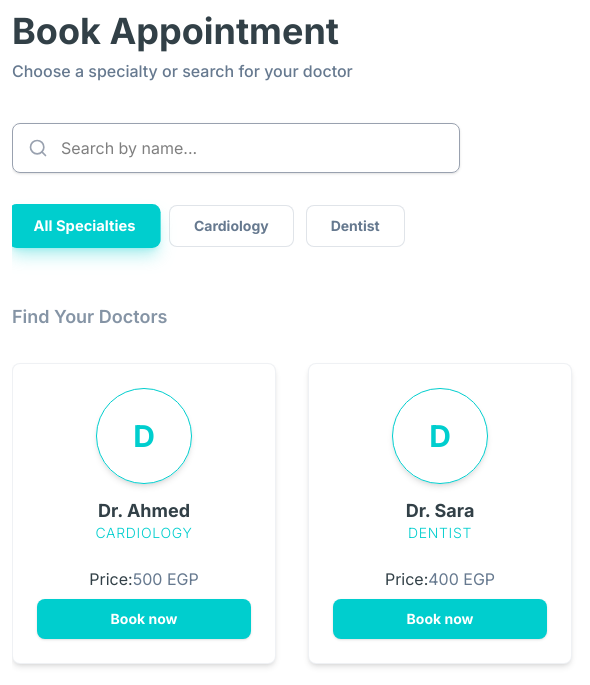
Test: BookAppointmentPage › should filter doctors by specialty when a tab is clicked
What coordinates should you click on to do the following:
click the button "Dentist"
I would click on:
 (355, 226)
Its box is [306,205,405,247].
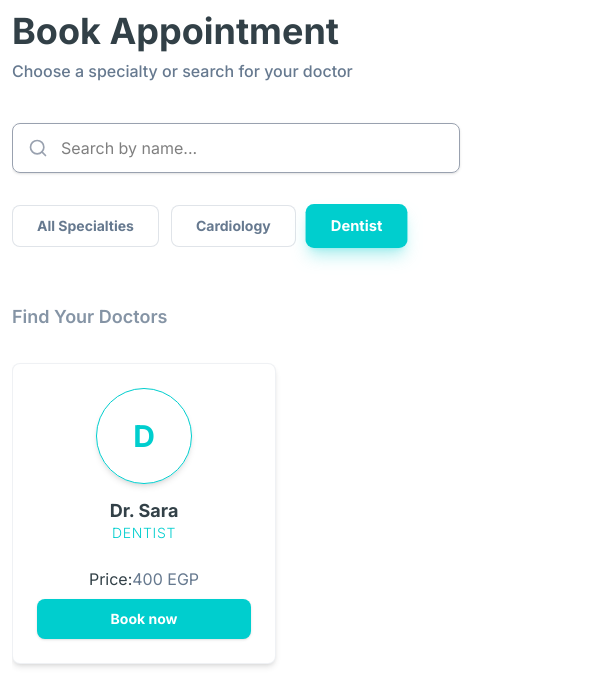
Expected: the heading "Dr. Sara" is shown, [110,500,178,522]
Expected: the heading "Dr. Ahmed" is gone
